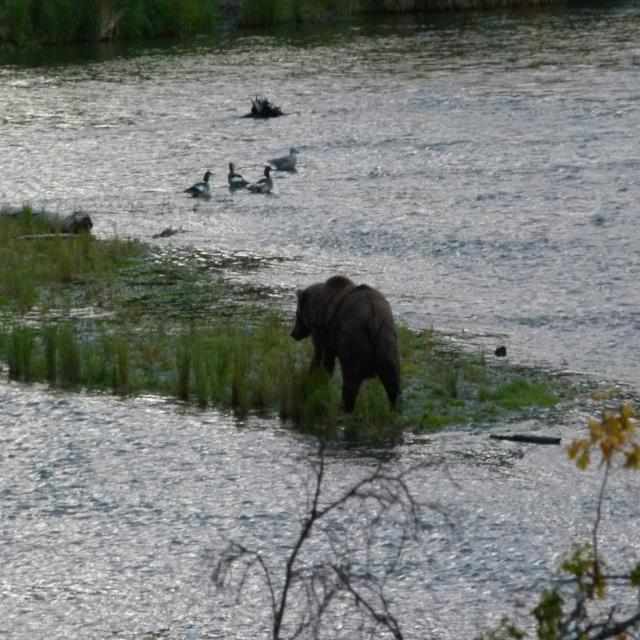bear face: (292, 280, 400, 406)
